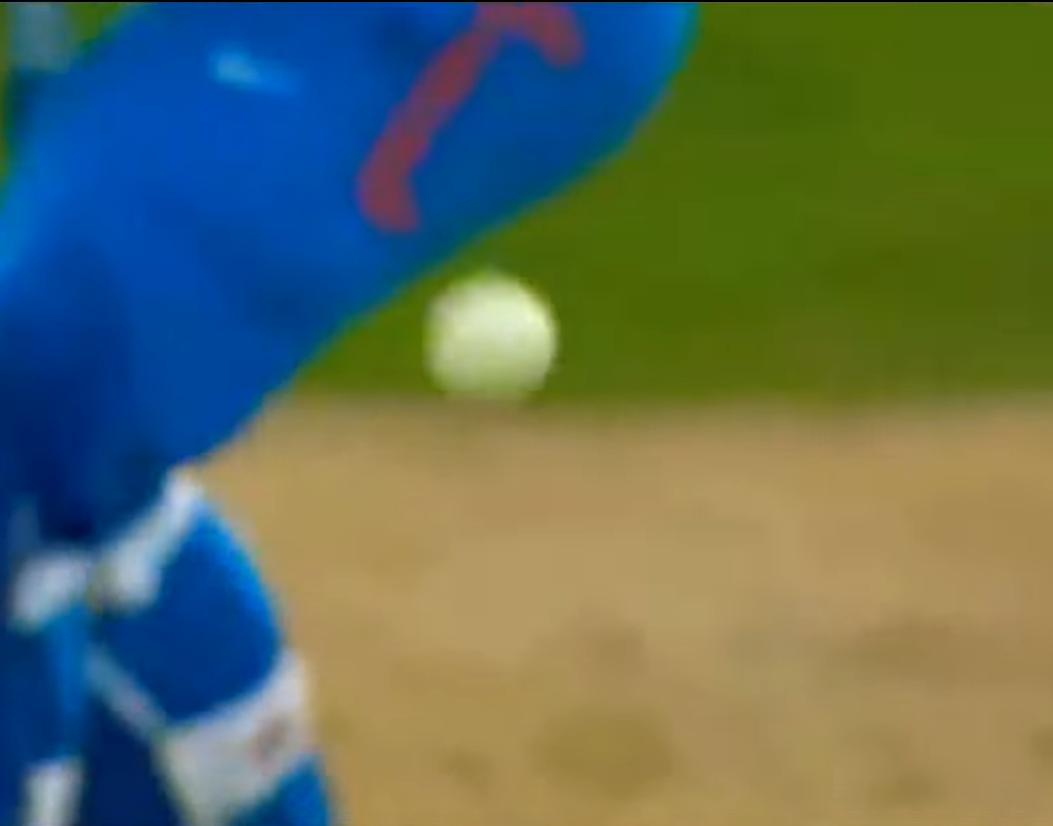Cricket-Ball: (419, 260, 569, 407)
